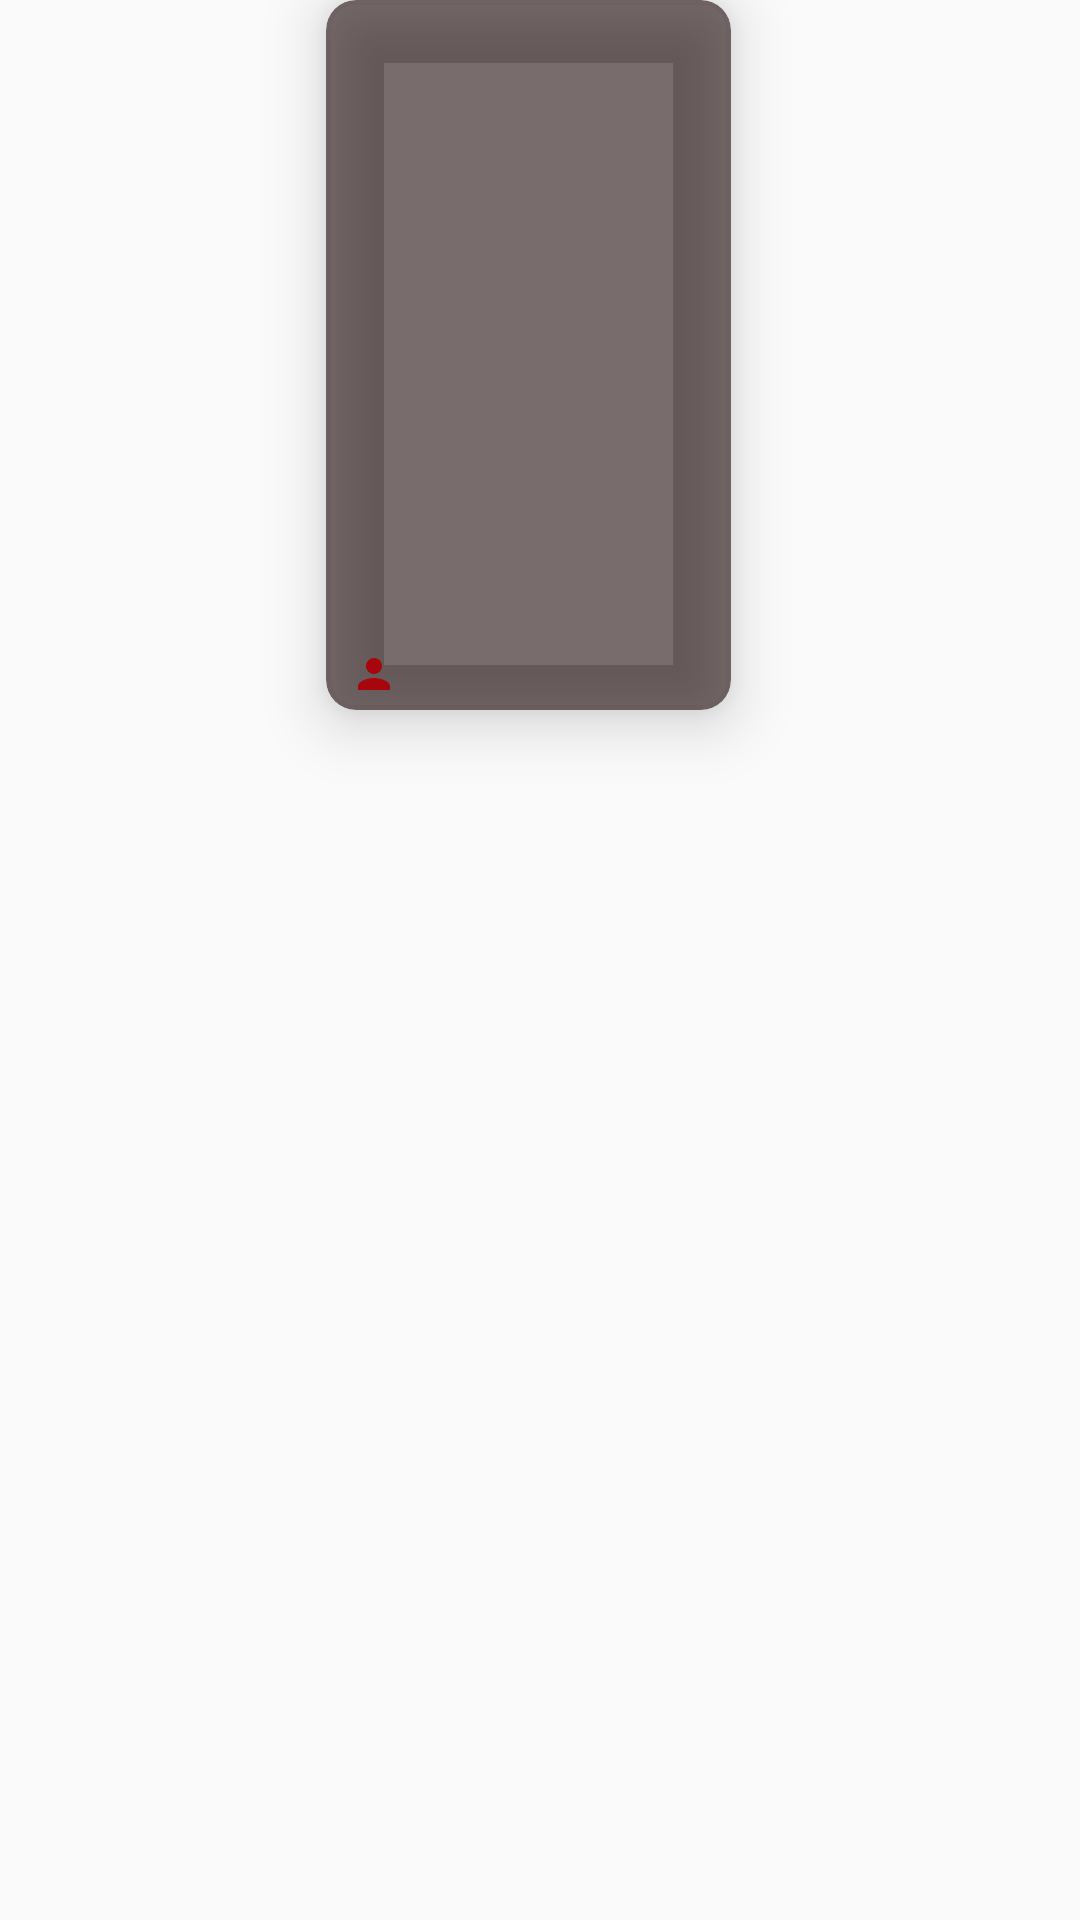

Locate icon controls on the screen. Image size 1080 x 1920, boxes as (x1, y1, x2, y2).
person: (358, 658, 390, 690)
